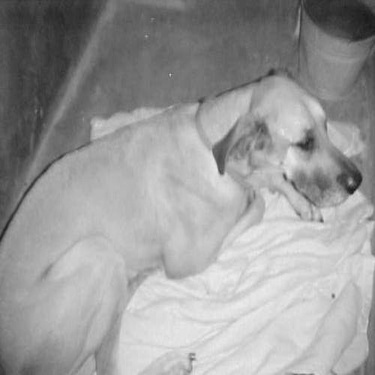dog: (5, 67, 371, 369)
